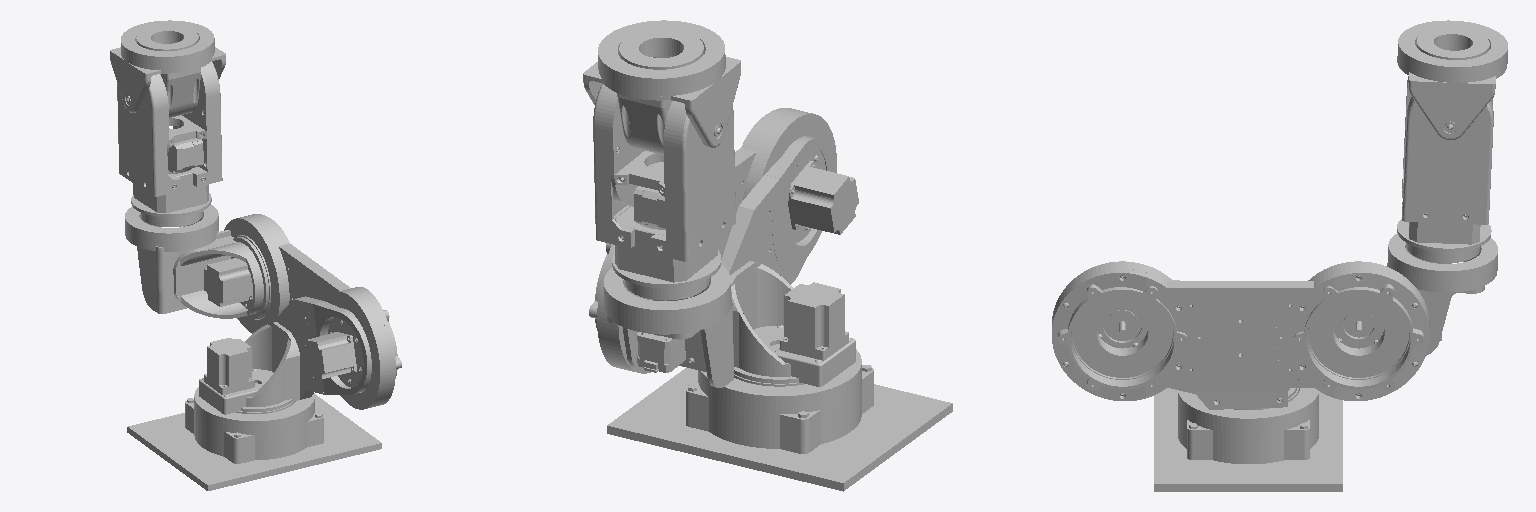
The robot description file, URDF, robot "six_dof_arm":
<robot name="six_dof_arm">
	<link name="base_link">
		<visual>
			<origin xyz="0 0 0" rpy="0 0 0"/>
			<geometry>
				<mesh filename="package://six_dof_arm_description/meshes/base_link.dae"/>
			</geometry>
		</visual>
		<collision>
			<origin xyz="0 0 -0.035" rpy="0 0 0"/>
			<geometry>
				<cylinder radius="0.1" length="0.07"/>
			</geometry>
		</collision>
	</link>
	
	<link name="k0">
		<visual>
			<origin xyz="0 0 0" rpy="0 0 0"/>
			<geometry>
				<mesh filename="package://six_dof_arm_description/meshes/link01.dae"/>
			</geometry>
		</visual>
		<collision>
			<origin xyz="0.005 0.0 0.05" rpy="0.0 0.0 0.0"/>
			<geometry>
				<box size="0.16 0.10 0.1"/>
			</geometry>
		</collision>
		<collision>
			<origin xyz="0.06 -0.12 0.11" rpy="-0.261799388 0.0 0.0"/>
			<geometry>
				<box size="0.02 0.24 0.14"/>
			</geometry>
		</collision>
	</link>
	
	<link name="k1">
		<visual>
			<origin xyz="0 0 0" rpy="1.570796 0 -1.570796"/>
			<geometry>
				<mesh filename="package://six_dof_arm_description/meshes/link02.dae"/>
			</geometry>
		</visual>
		<collision>
			<origin xyz="0.008 0.15 0.0" rpy="0.0 0.0 0.0"/>
			<geometry>
				<box size="0.02 0.3 0.14"/>
			</geometry>
		</collision>
		<collision>
			<origin xyz="0.01 0.0 0.0" rpy="0.0 1.570796 0.0"/>
			<geometry>
				<cylinder radius="0.09" length="0.06"/>
			</geometry>
		</collision>
		<collision>
			<origin xyz="0.01 0.3 0.0" rpy="0.0 1.570796 0.0"/>
			<geometry>
				<cylinder radius="0.09" length="0.06"/>
			</geometry>
		</collision>
	</link>
	
	<link name="k2">
		<visual>
			<origin xyz="0 0 0" rpy="0 -1.570796 0"/>
			<geometry>
				<mesh filename="package://six_dof_arm_description/meshes/link03.dae"/>
			</geometry>
		</visual>
		<collision>
			<origin xyz="-0.070 0.0 0.0" rpy="0.0 1.570796 0.0"/>
			<geometry>
				<cylinder radius="0.09" length="0.10"/>
			</geometry>
		</collision>
		<collision>
			<origin xyz="-0.0925 -0.015 0.1025" rpy="1.570796 0.0 0.0"/>
			<geometry>
				<cylinder radius="0.07" length="0.13"/>
			</geometry>
		</collision>
	</link>
	
	<link name="k3">
		<visual>
			<origin xyz="0 0 0" rpy="1.570796 0 0"/>
			<geometry>
				<mesh filename="package://six_dof_arm_description/meshes/link04.dae"/>
			</geometry>
		</visual>
		<collision>
			<origin xyz="0.0 -0.10 0.0" rpy="0.0 0.0 0.0"/>
			<geometry>
				<box size="0.12 0.20 0.12"/>
			</geometry>
		</collision>
	</link>
	
	<link name="k4">
		<visual>
			<origin xyz="0 0 0" rpy="1.570796 0 0"/>
			<geometry>
				<mesh filename="package://six_dof_arm_description/meshes/link05.dae"/>
			</geometry>
		</visual>
		<collision>
			<origin xyz="0.0 -0.070 0.0" rpy="1.570796 0.0 0.0"/>
			<geometry>
				<cylinder radius="0.070" length="0.026"/>
			</geometry>
		</collision>
		<collision>
			<origin xyz="0.0 -0.05 0.0" rpy="0.0 0.0 0.0"/>
			<geometry>
				<box size="0.14 0.02 0.12"/>
			</geometry>
		</collision>
	</link>
	
	<link name="k5">
		<visual>
			<origin xyz="0 0 0" rpy="1.570796 0 0"/>
			<geometry>
				<mesh filename="package://six_dof_arm_description/meshes/end_effector.dae"/>
			</geometry>
		</visual>
		<collision>
			<origin xyz="0.0 -0.016 0.0" rpy="1.570796 0.0 0.0"/>
			<geometry>
				<cylinder radius="0.05" length="0.02"/>
			</geometry>
		</collision>
	</link>
	
	<joint name="j0" type="revolute">
		<origin xyz="0.000 0.000 0.000" rpy="0.00 0.00 0.00"/>
		<parent link="base_link"/>
		<child link="k0"/>
		<axis xyz="0 0 1"/> 
		<limit lower="-3.14" upper="3.14" effort="80.0" velocity="2.01"/>
	</joint>
	
	<joint name="j1" type="revolute">
		<origin xyz="0.092 -0.160 0.120" rpy="0.00 0.00 0.00"/>
		<parent link="k0"/>
		<child link="k1"/>
		<axis xyz="1 0 0"/>
		<limit lower="0.0" upper="3.14" effort="50.0" velocity="2.01"/>
	</joint>
	
	<joint name="j2" type="revolute">
		<origin xyz="0.000 0.300 0.000" rpy="0.00 0.00 0.00"/>
		<parent link="k1"/>
		<child link="k2"/>
		<axis xyz="-1 0 0"/>
		<limit lower="0.0872664626" upper="3.141592" effort="50.0" velocity="2.01"/>
	</joint>
	
	<joint name="j3" type="revolute">
		<origin xyz="-0.092 -0.080 0.104" rpy="0.00 0.00 0.00"/>
		<parent link="k2"/>
		<child link="k3"/>
		<axis xyz="0 1 0"/>
		<limit lower="-3.14" upper="3.14" effort="30.0" velocity="2.01"/>
	</joint>
	
	<joint name="j4" type="revolute">
		<origin xyz="0.00 -0.202 0.00" rpy="0.00 0.00 0.00"/>
		<parent link="k3"/>
		<child link="k4"/>
		<axis xyz="1 0 0"/>
		<limit lower="-1.57" upper="1.57" effort="10.0" velocity="2.01"/>
	</joint>
	
	<joint name="j5" type="revolute">
		<origin xyz="0.00 -0.062 0.00" rpy="0.00 0.00 0.00"/>
		<parent link="k4"/>
		<child link="k5"/>
		<axis xyz="0 1 0"/>
		<limit lower="-3.14" upper="3.14" effort="10.0" velocity="2.01"/>
	</joint>
</robot>

--- What the picture shows (computed from the rendered views, not written in the file) ---
3 views of the same robot in one strip: view 1: azimuth 30°, elevation 25°; view 2: azimuth 150°, elevation 25°; view 3: azimuth 270°, elevation 25° (orthographic).
Robot: six_dof_arm — 7 links, 6 joints (6 revolute); root link base_link; default pose: joints at zero except 1 at the middle of their limits (j2 = 1.61).
Visible links, largest first — view 1: base_link, k0, k3, k2, k1, k4, k5; view 2: base_link, k0, k3, k4, k2, k1, k5; view 3: k1, base_link, k3, k2, k0, k4, k5.
Link boxes in pixels (<box>): base_link: <box>127,387,381,490</box>; k0: <box>199,296,371,414</box>; k3: <box>117,61,222,226</box>; k2: <box>125,205,270,318</box>; k1: <box>224,214,401,409</box>; k4: <box>110,20,225,117</box>; k5: <box>136,25,198,50</box>; base_link: <box>607,349,952,491</box>; k0: <box>721,136,858,386</box>; k3: <box>593,83,735,300</box>; k4: <box>583,20,740,154</box>; k2: <box>604,265,733,387</box>; k1: <box>589,108,836,373</box>; k5: <box>619,29,703,69</box>; k1: <box>1052,261,1429,400</box>; base_link: <box>1154,388,1342,491</box>; k3: <box>1397,76,1493,262</box>; k2: <box>1308,233,1497,377</box>; k0: <box>1072,280,1298,409</box>; k4: <box>1397,20,1507,139</box>; k5: <box>1416,27,1489,59</box>.
Bounding box of the posed robot: 0.3 × 0.5798 × 0.5691 m (x, y, z).
Meshes: 7 distinct files referenced, 7 mesh visuals loaded (7 Collada DAE).